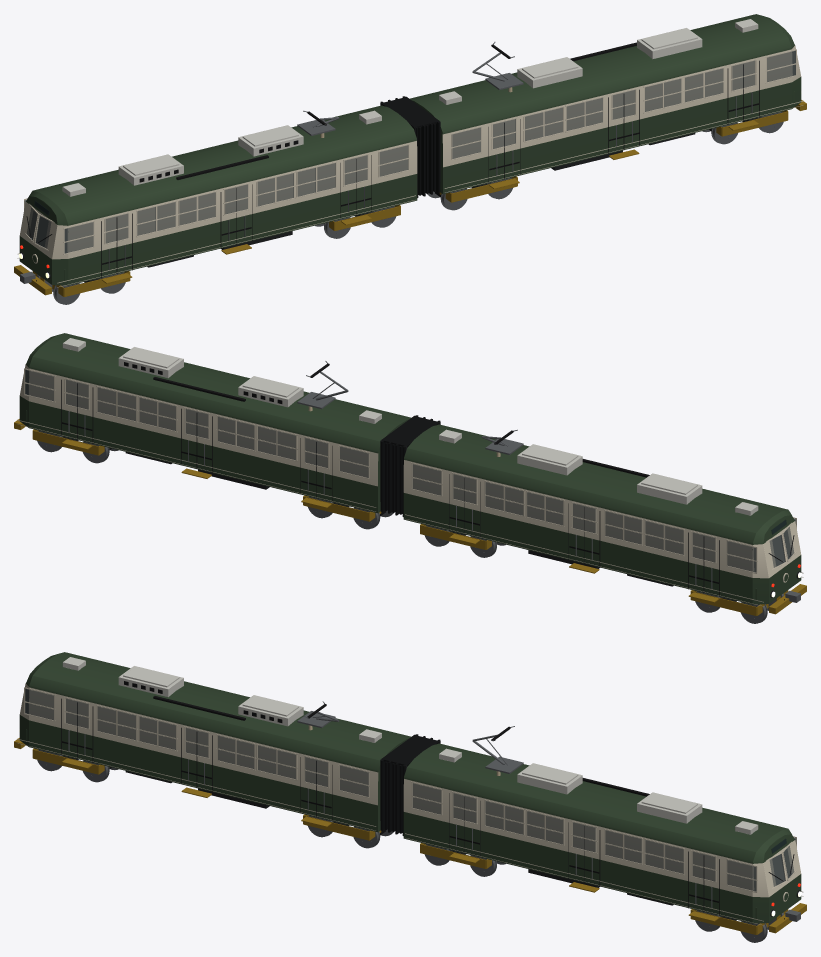
Rendered from train.glb.
The picture shows the model from 3 angles, top to bottom: view 1: azimuth 30°, elevation 25°; view 2: azimuth 150°, elevation 25°; view 3: azimuth 330°, elevation 25°; orthographic projection.
Visible parts, largest first — view 1: Enoden_1000_TwoCar, Enoden_1000_Wheels; view 2: Enoden_1000_TwoCar, Enoden_1000_Wheels; view 3: Enoden_1000_TwoCar, Enoden_1000_Wheels.
Boxes of the visible parts, x1,y1,x2,y2 form: Enoden_1000_TwoCar: [14, 14, 806, 296]; Enoden_1000_Wheels: [37, 111, 783, 304]; Enoden_1000_TwoCar: [14, 333, 806, 615]; Enoden_1000_Wheels: [37, 430, 783, 623]; Enoden_1000_TwoCar: [14, 652, 806, 934]; Enoden_1000_Wheels: [37, 749, 783, 942].
Size of the model in its own units: 27.26 by 4.7 by 2.72.
